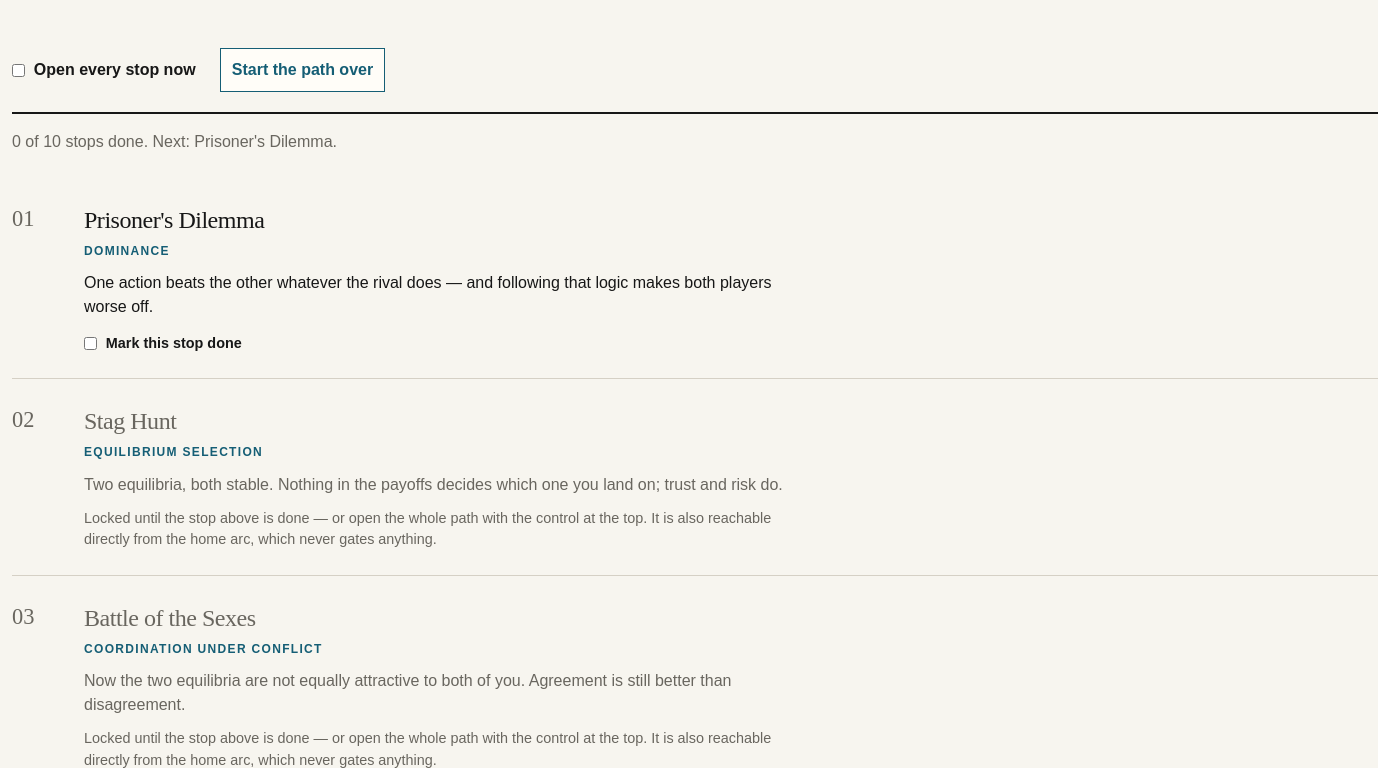
Test case: curriculum path surface › opens every stop from the single gate control
Click the checkbox labelled "Open every stop now" at (18, 70), box [12,64,25,76]
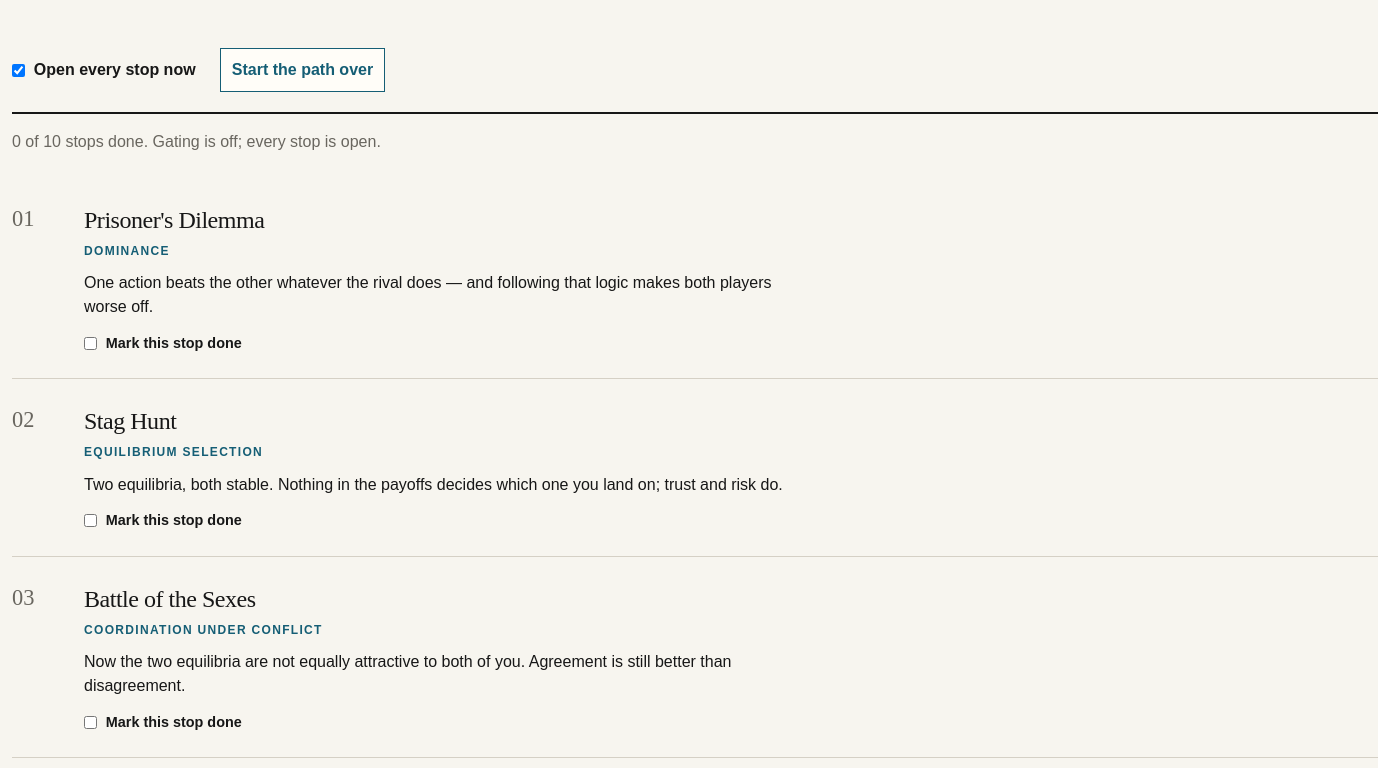
Check: the link "Prisoner's Dilemma" is shown, box [84,207,264,233]
Check: the message shows "Gating is off; every stop is open.", box [153,133,381,150]
